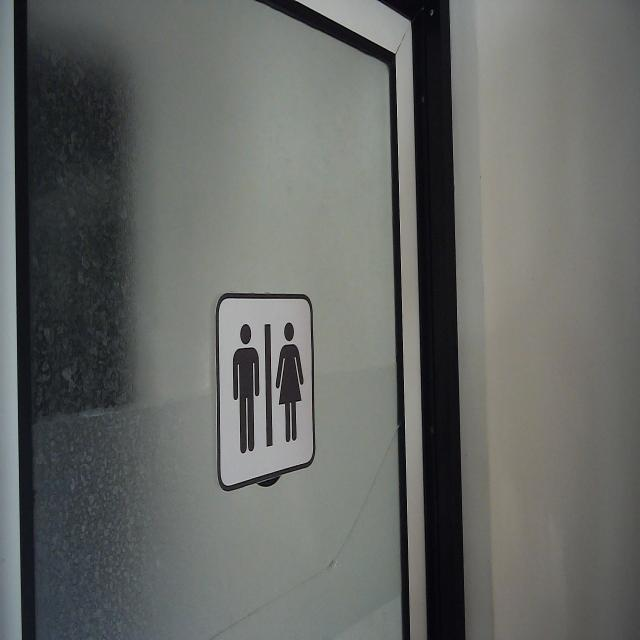restroom: (212, 288, 316, 496)
